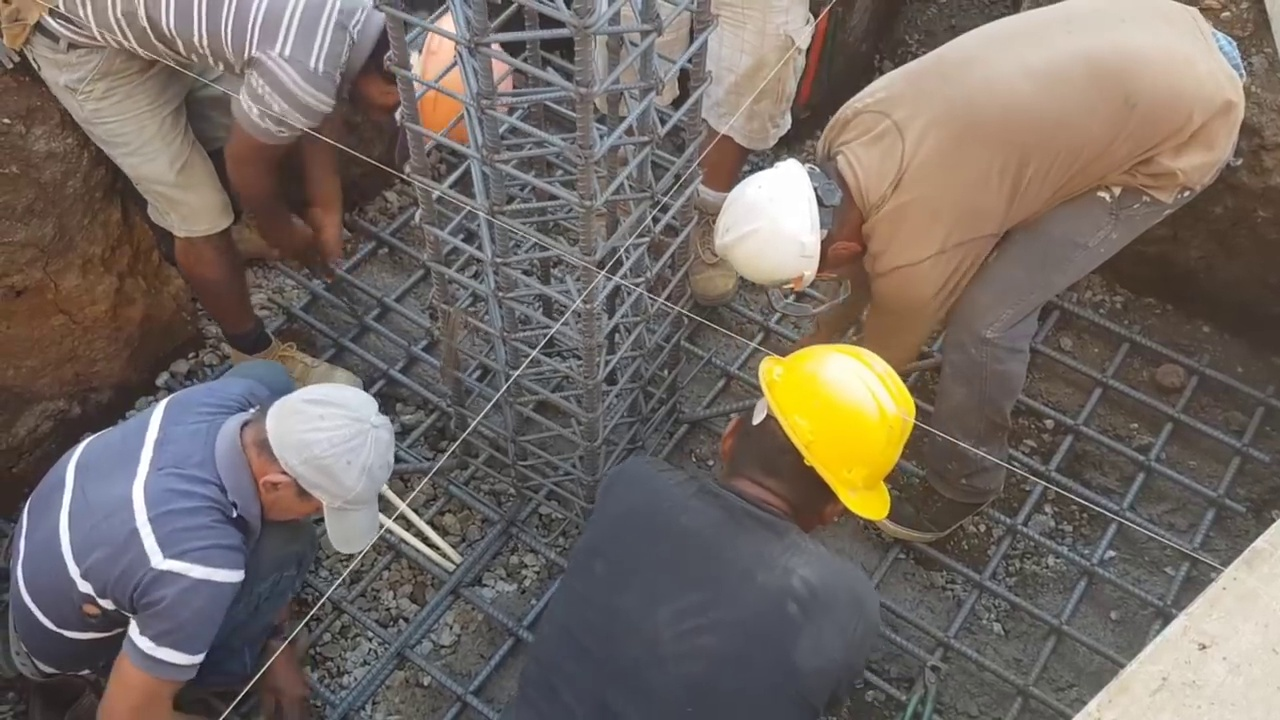helmet: (756, 343, 913, 523), (716, 158, 826, 291), (402, 16, 510, 148)
helmet-off: (252, 381, 394, 553)
helmet-on: (704, 346, 910, 536), (714, 144, 878, 293), (350, 14, 513, 148)
person: (717, 3, 1248, 544), (2, 1, 520, 368), (500, 346, 910, 719), (0, 347, 400, 720), (583, 5, 813, 310)
